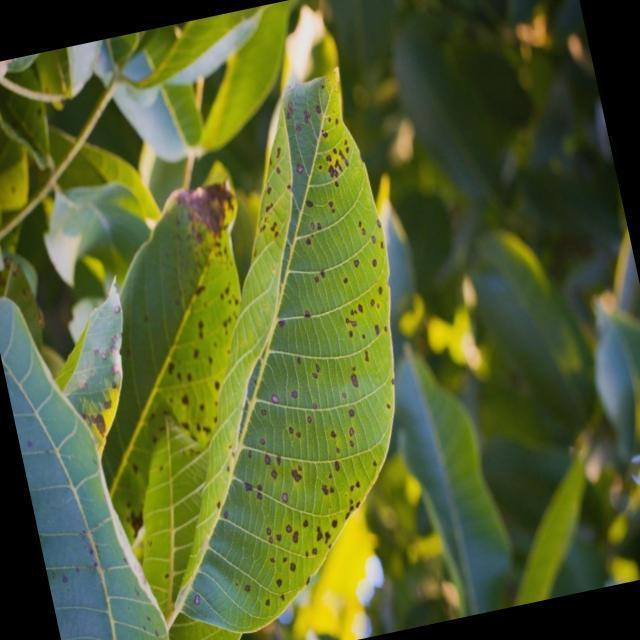Bacterial Spot: (117, 93, 449, 630), (13, 394, 175, 640)
